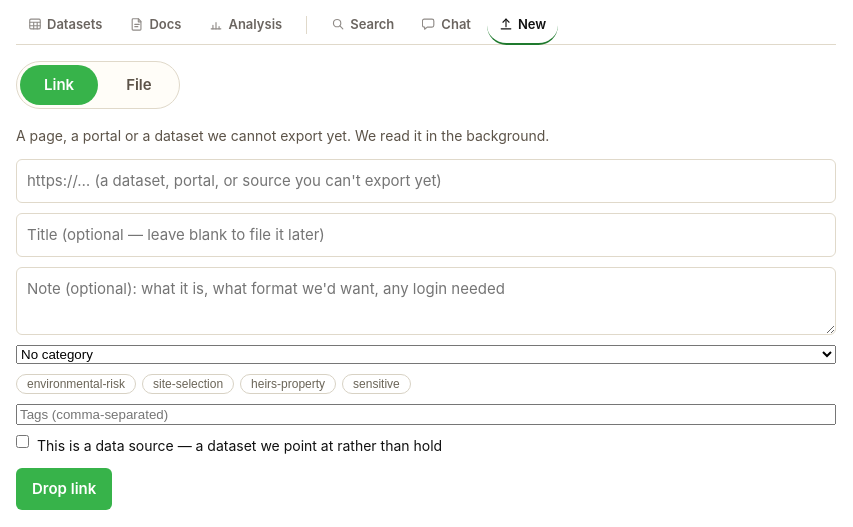
Test: the chooser › switches each way in one click, and only ever renders one side
The width and height of the screenshot is (853, 527).
Click the tab with test id "choose-file" at (139, 85), box x1=102 y1=65 x2=176 y2=105
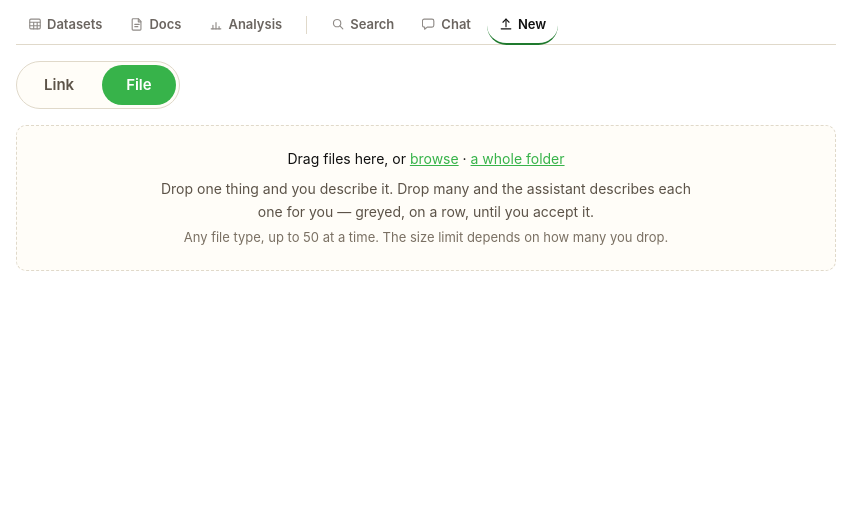
Now the element with test id "new-drop-zone" is shown, box x1=16 y1=125 x2=836 y2=271
Click the tab with test id "choose-link" at (59, 85), box x1=20 y1=65 x2=98 y2=105
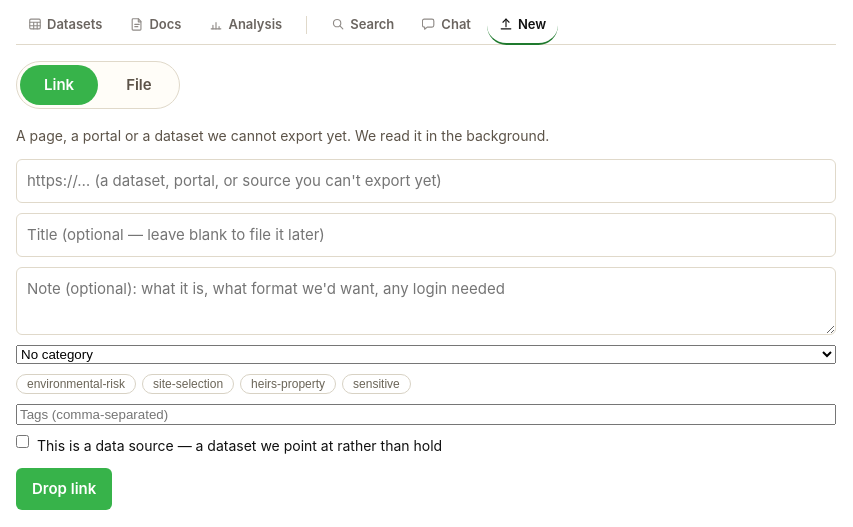
Now the form with test id "link-drop-form" is shown
